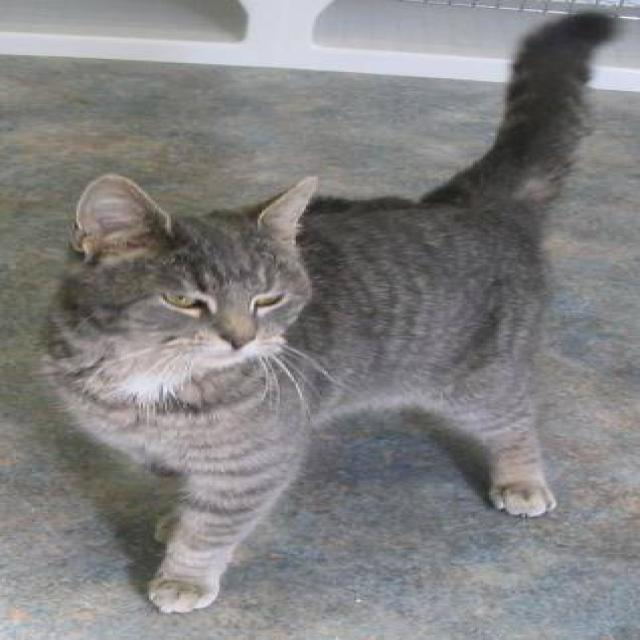cat: (32, 9, 620, 614)
